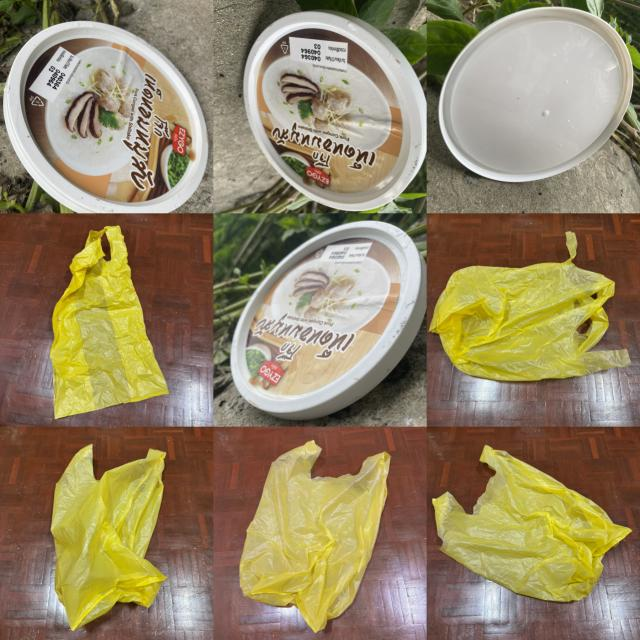Single-layer Plastic: (432, 446, 630, 601), (429, 231, 631, 381), (239, 441, 390, 632), (50, 226, 169, 418), (51, 445, 165, 629)
